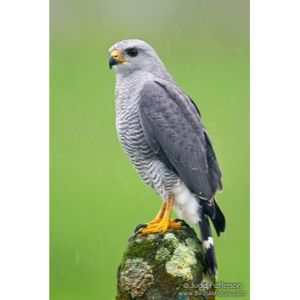hawk: (103, 34, 229, 274)
